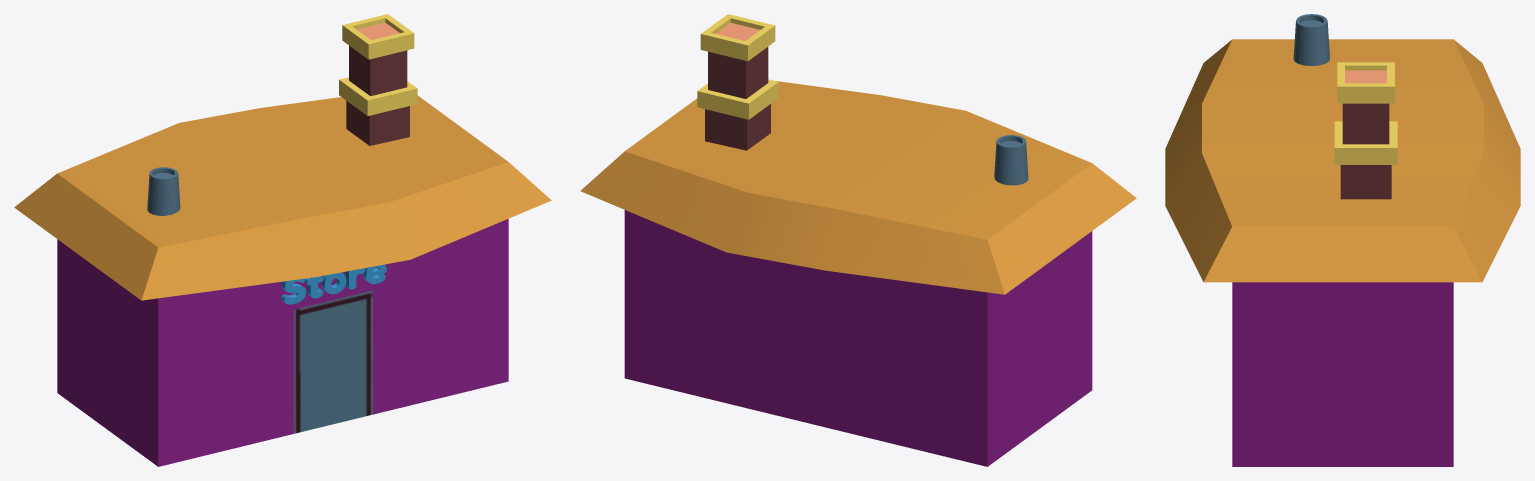
Rendered from Store.fbx.
3 views of the same model, side by side, from view 1: azimuth 30°, elevation 25°; view 2: azimuth 150°, elevation 25°; view 3: azimuth 270°, elevation 25° (orthographic). The views are drawn at different scales.
Visible parts, largest first — view 1: Cube.001; view 2: Cube.001; view 3: Cube.001.
Boxes of the visible parts, bbox=[...] form: Cube.001: bbox=[14, 14, 551, 466]; Cube.001: bbox=[580, 14, 1136, 466]; Cube.001: bbox=[1165, 14, 1520, 466].
Bounding box in the file's own units: 803 × 606 × 549.
